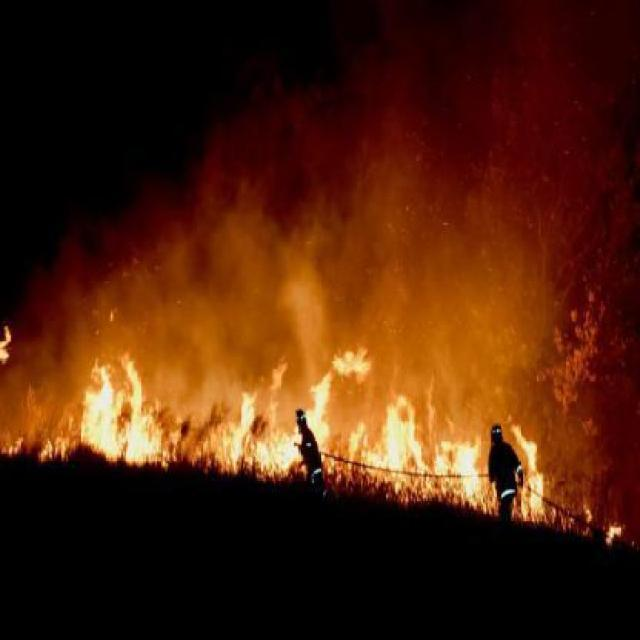Fire: (80, 352, 177, 466), (366, 392, 434, 488), (226, 388, 300, 474), (433, 437, 484, 506), (515, 422, 543, 521), (306, 378, 331, 454), (336, 347, 374, 378), (604, 518, 626, 548), (1, 320, 14, 366), (3, 432, 23, 457), (582, 502, 592, 533)
